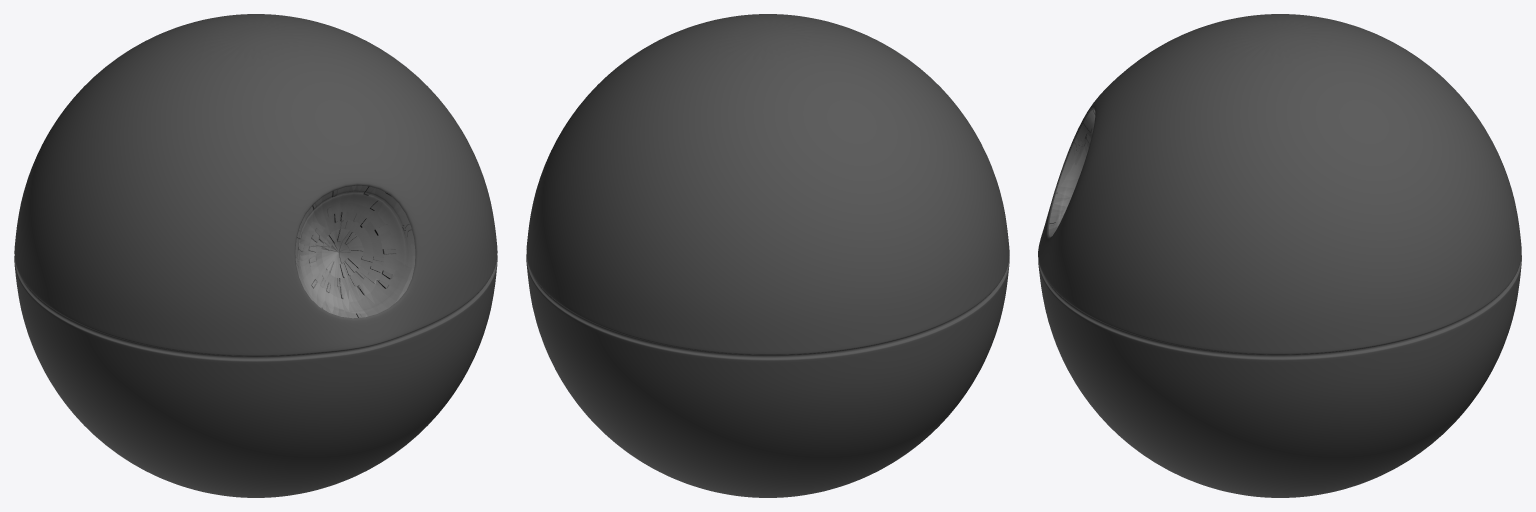
The model's file is deadstarmesh.fbx.
The picture shows the model from 3 angles, left to right: view 1: azimuth 30°, elevation 25°; view 2: azimuth 150°, elevation 25°; view 3: azimuth 270°, elevation 25°; orthographic projection.
Parts seen in each view (by area): view 1: Sphere; view 2: Sphere; view 3: Sphere.
Part boxes in pixels (x1,y1,x2,y2): Sphere: [14, 14, 497, 497]; Sphere: [526, 14, 1009, 497]; Sphere: [1038, 14, 1521, 497].
Bounding box in the file's own units: 422 × 425 × 423.
